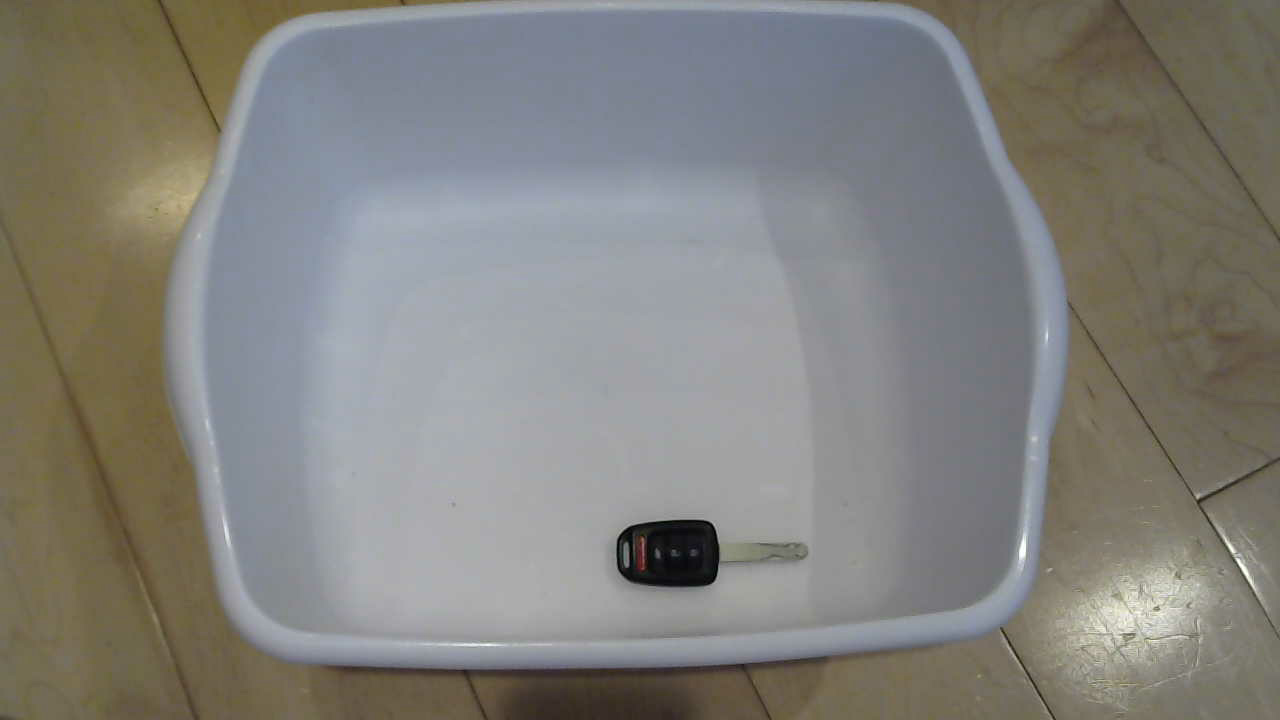key: (606, 509, 821, 598)
